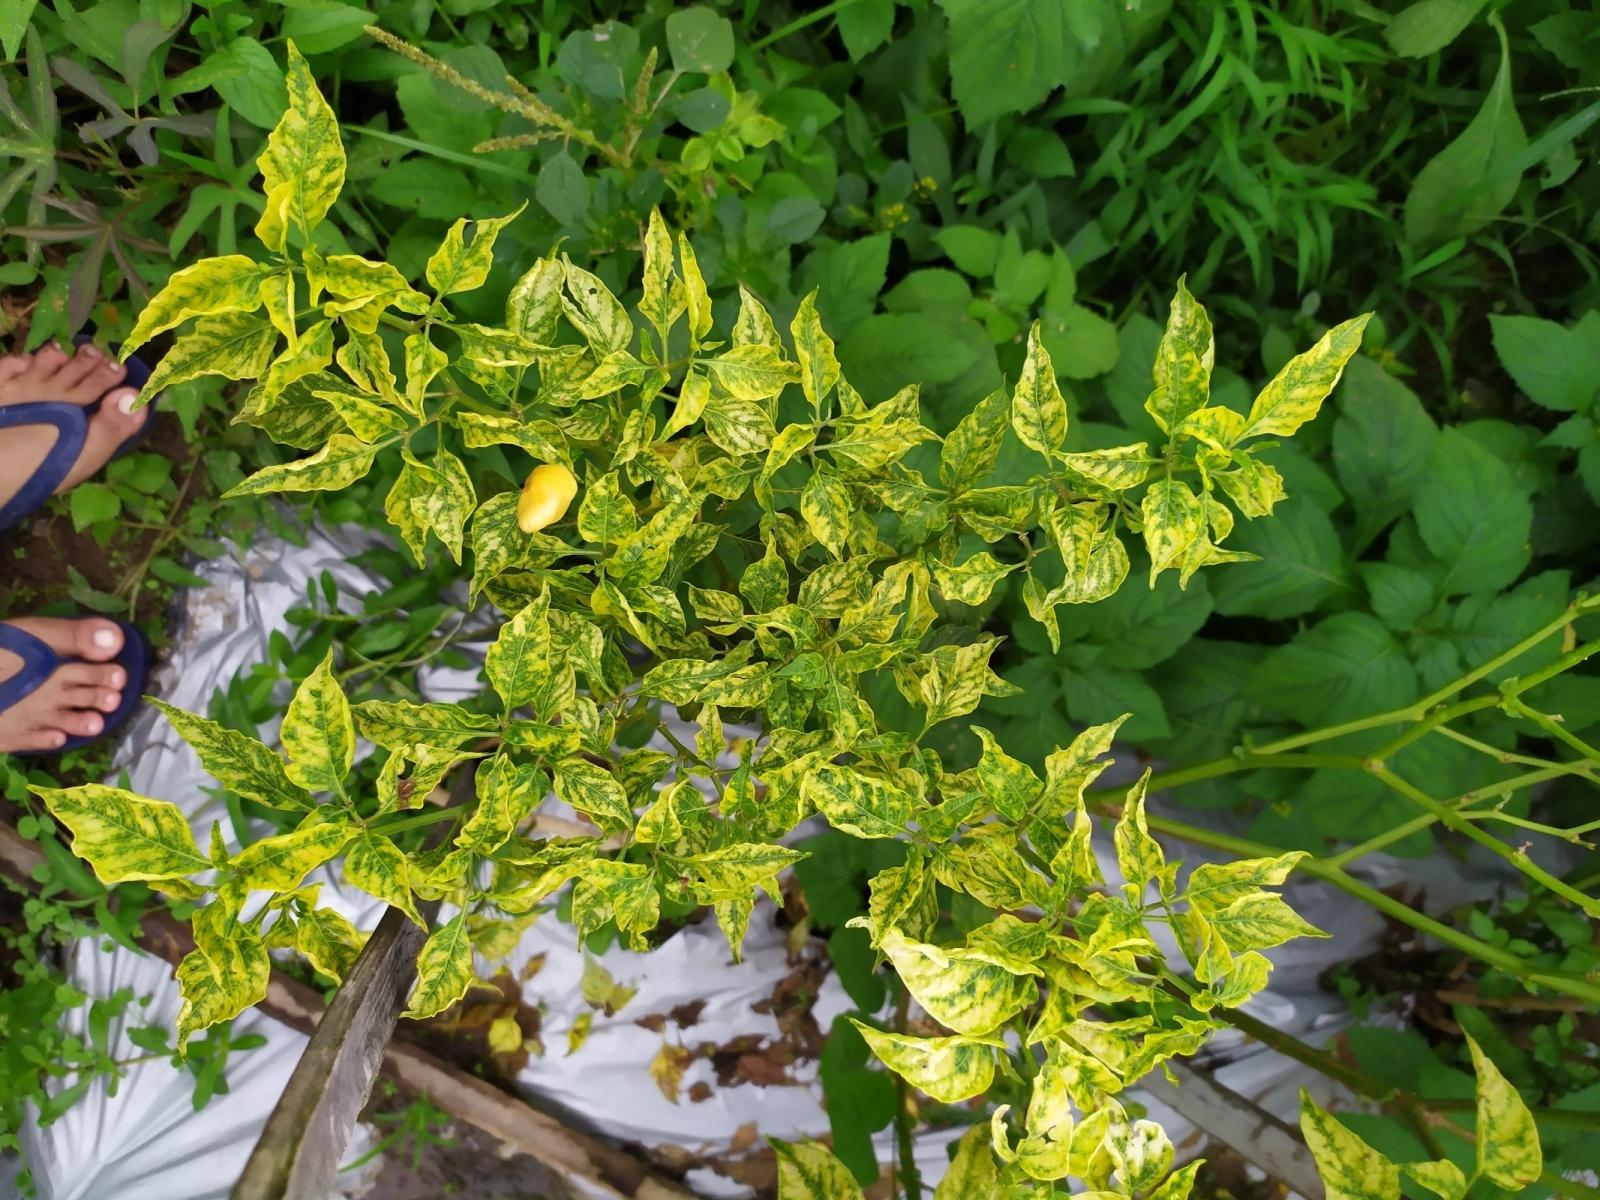cabai_normal: (517, 463, 578, 532)
